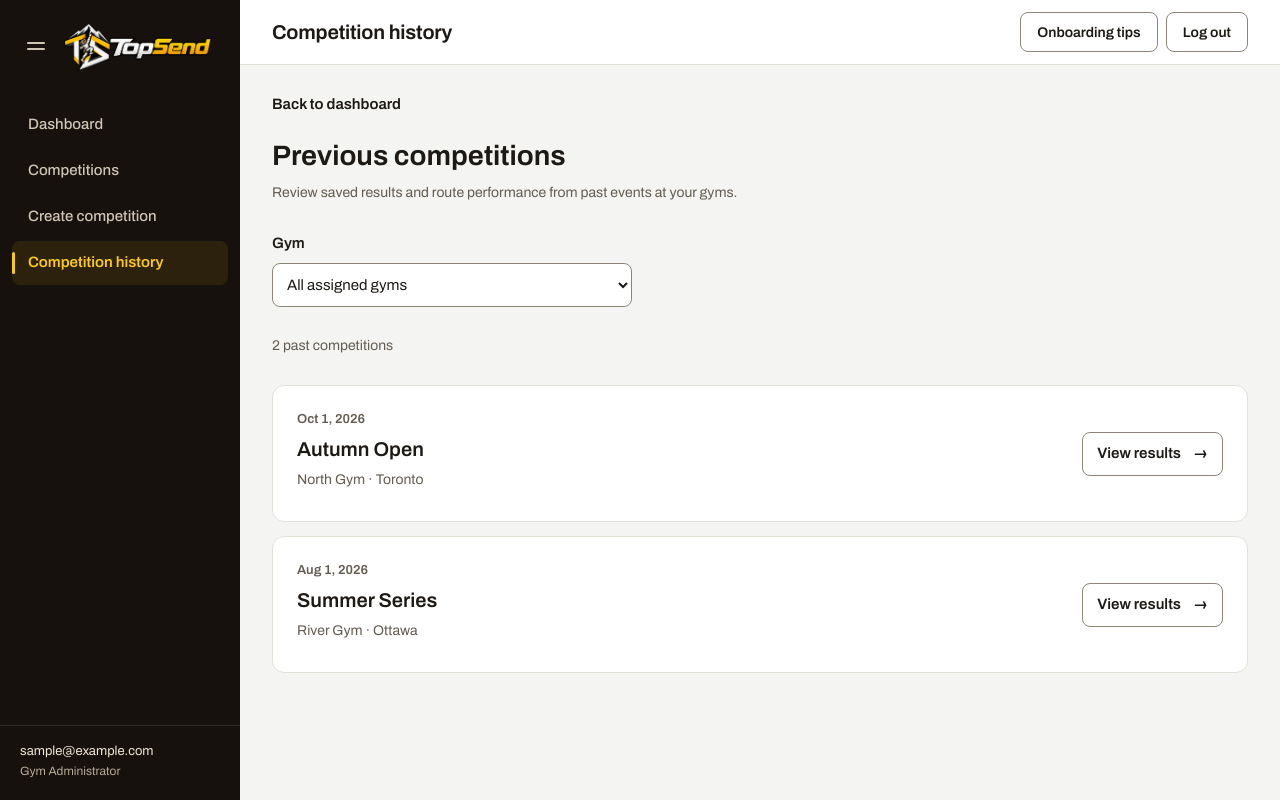
Scenario: filters by an assigned gym and opens its read-only historical details
The width and height of the screenshot is (1280, 800).
Select "North Gym" in the dropdown labelled "Gym" at (452, 285), box [272,263,632,307]
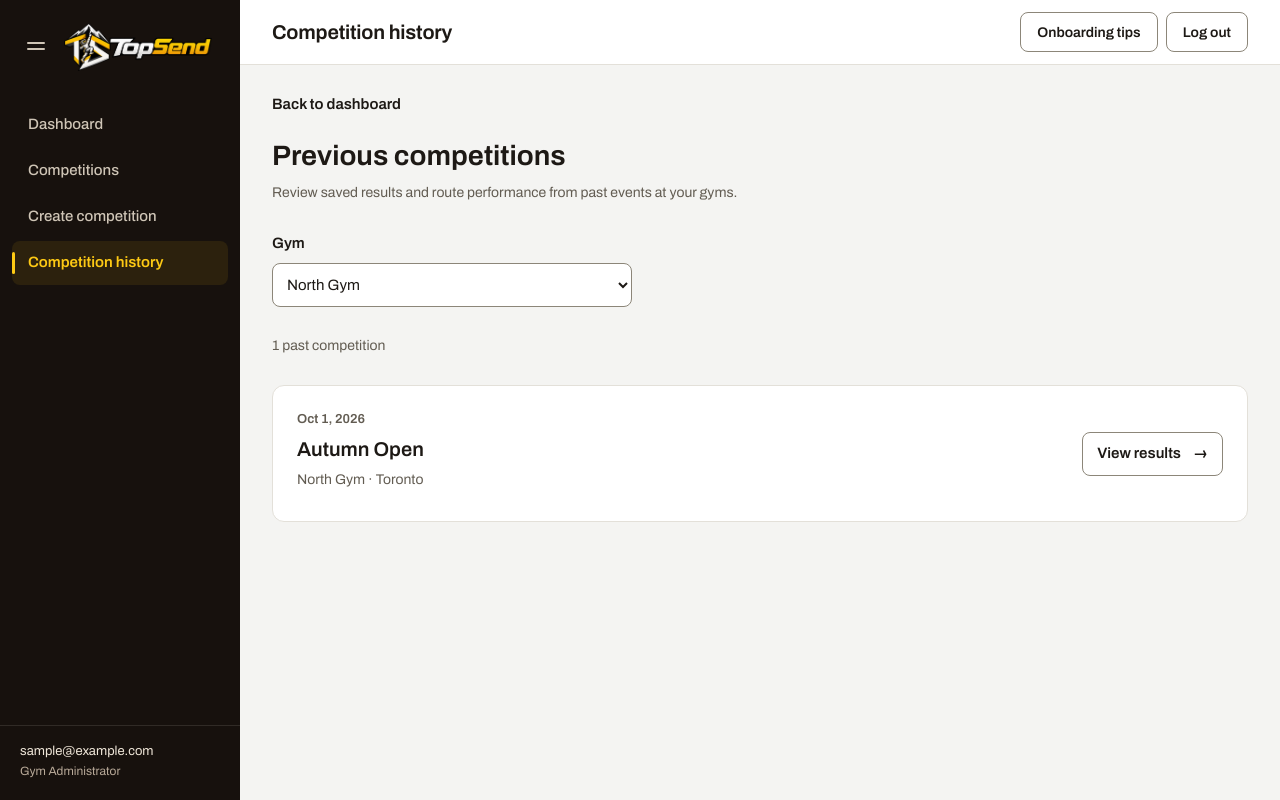
Result: the heading "Summer Series" is gone
Click the link with aria-label "View history for Autumn Open" at (1153, 454), box [1082,432,1223,476]
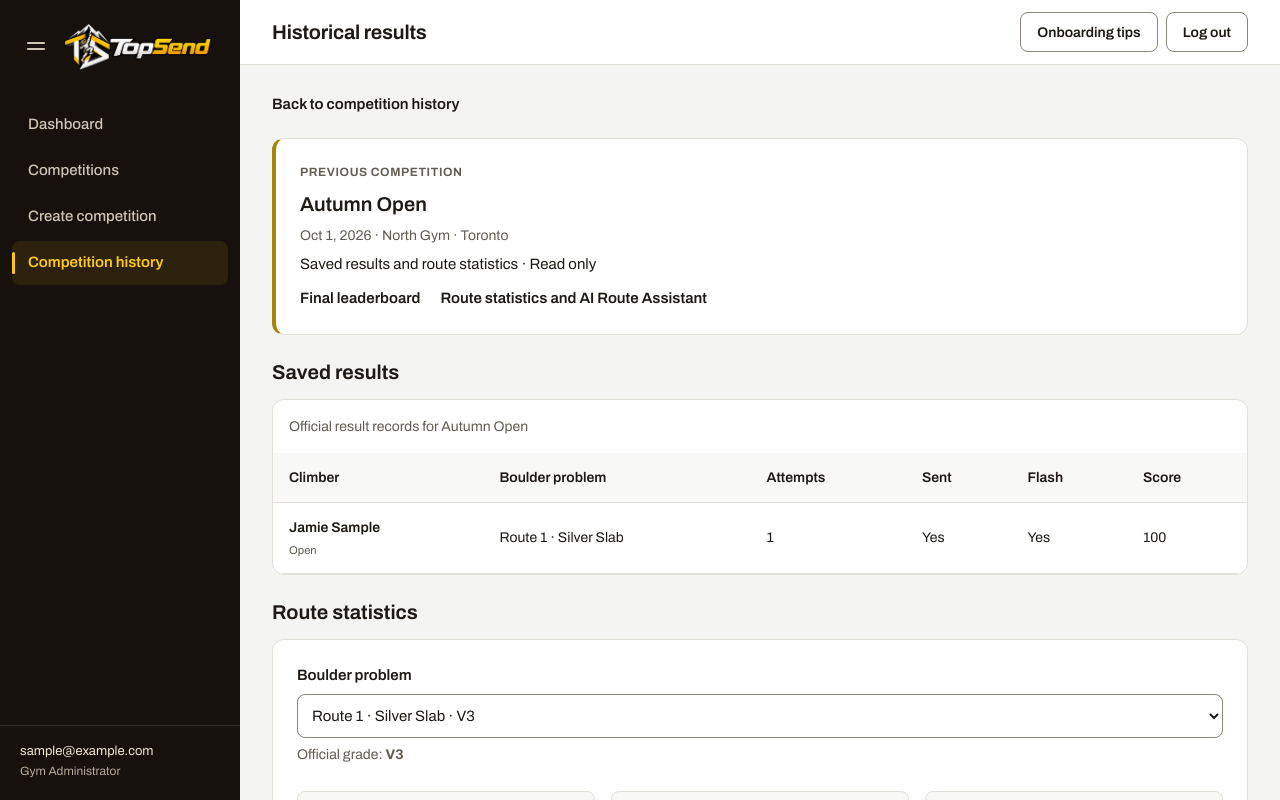
Result: the table is shown at [273,400,1247,574]
Result: the text "Saved results and route statistics · Read only" is shown at [300,256,596,272]
